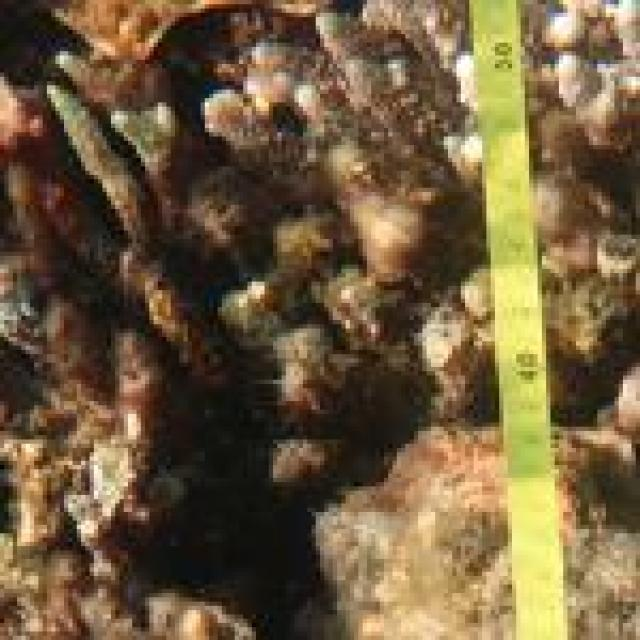Dead Coral: (152, 0, 490, 464)
